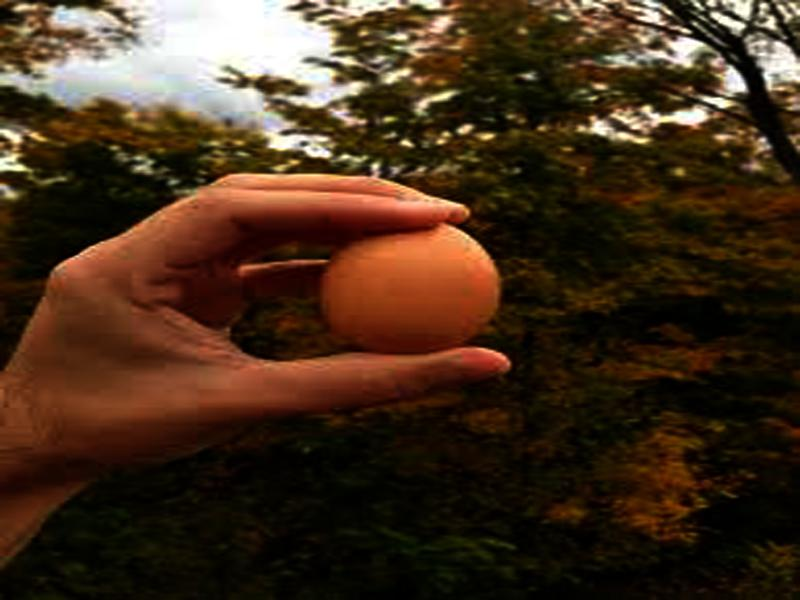Eggs: (322, 220, 499, 354)
